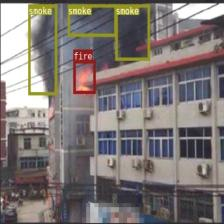fire: (73, 60, 95, 94)
smoke: (28, 4, 57, 94), (115, 4, 149, 60), (67, 4, 116, 36)
